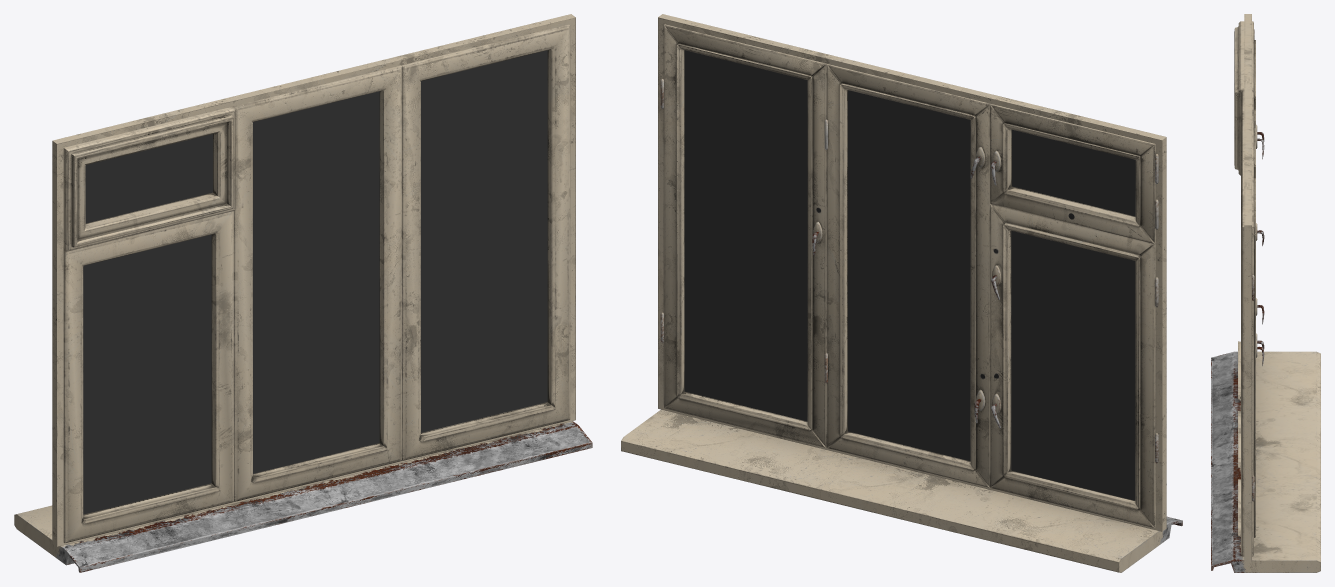
File: SM_WindowWide01_Glass.FBX
3 views of the same model, side by side, from view 1: azimuth 30°, elevation 25°; view 2: azimuth 150°, elevation 25°; view 3: azimuth 270°, elevation 25° (orthographic). The views are drawn at different scales.
Visible parts, largest first — view 1: SM_WindowWide01_Glass_LOD0; view 2: SM_WindowWide01_Glass_LOD0; view 3: SM_WindowWide01_Glass_LOD0.
Part boxes in pixels (left/top/right/bottom): SM_WindowWide01_Glass_LOD0: left=14, top=14, right=592, bottom=572; SM_WindowWide01_Glass_LOD0: left=621, top=14, right=1182, bottom=572; SM_WindowWide01_Glass_LOD0: left=1211, top=14, right=1320, bottom=572.
Bounding box in the file's own units: 182 × 39.96 × 140.
